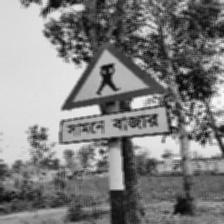Market-in-front: (58, 41, 172, 144)
